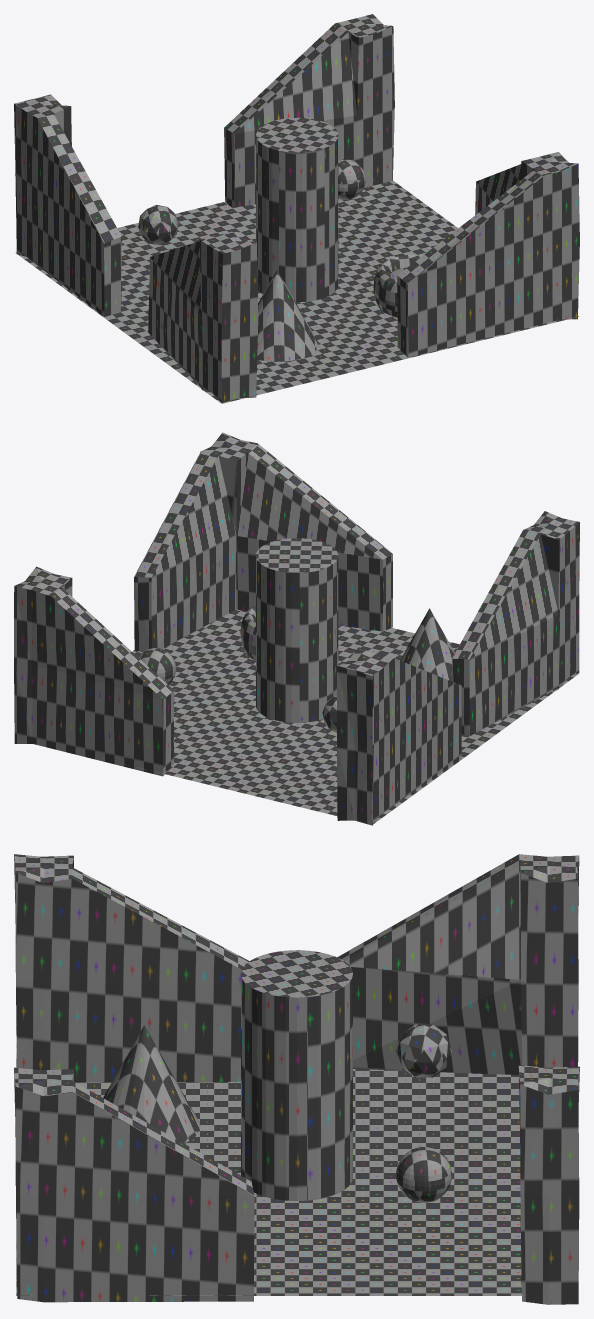
Rendered from scenespot.dae.
The picture shows the model from 3 angles, top to bottom: view 1: azimuth 30°, elevation 25°; view 2: azimuth 150°, elevation 25°; view 3: azimuth 270°, elevation 25°; orthographic projection. The views are drawn at different scales.
Visible parts, largest first — view 1: Cube_003; view 2: Cube_003; view 3: Cube_003.
Boxes of the visible parts, bbox=[...] form: Cube_003: bbox=[14, 14, 579, 403]; Cube_003: bbox=[14, 432, 579, 825]; Cube_003: bbox=[14, 854, 579, 1304].
Size of the model in its own units: 20.1 by 20.17 by 8.67.
1 material, 1 textured.
